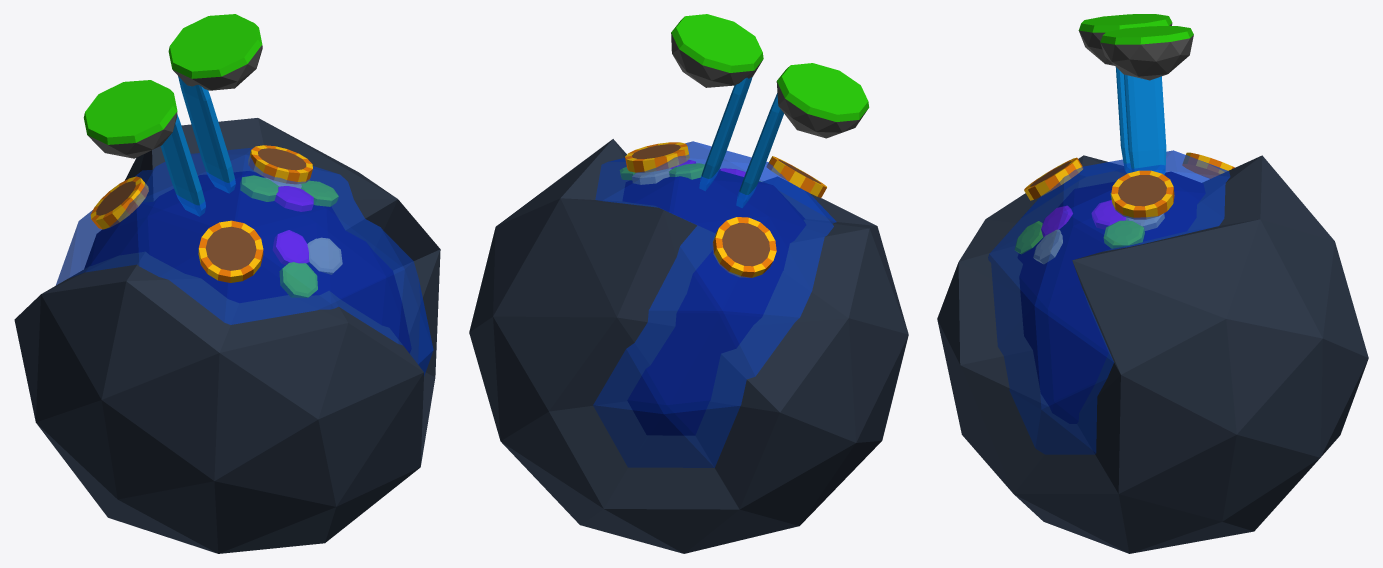
File: CosmicCove.obj
The picture shows the model from 3 angles, left to right: view 1: azimuth 30°, elevation 25°; view 2: azimuth 150°, elevation 25°; view 3: azimuth 270°, elevation 25°; orthographic projection. The views are drawn at different scales.
Visible parts, largest first — view 1: Icosphere.001, Icosphere, Icosphere.004, Icosphere.002, Icosphere.003, Cylinder.008, Cube, Cube.001, Cylinder.001, Cylinder.002, Cylinder.006, Cylinder.005 (+4 smaller); view 2: Icosphere.001, Icosphere, Icosphere.004, Icosphere.002, Icosphere.003, Cylinder.002, Cube, Cube.001, Cylinder.001, Cylinder.008; view 3: Icosphere.001, Icosphere, Icosphere.004, Icosphere.003, Cube, Cylinder.001, Icosphere.002, Cylinder.008, Cylinder.009, Cube.001, Cylinder.002, Cylinder.007 (+3 smaller).
Part boxes in pixels (x1=…): Icosphere.001: x1=14, y1=118, x2=440, y2=553; Icosphere: x1=55, y1=147, x2=433, y2=376; Icosphere.004: x1=84, y1=171, x2=411, y2=353; Icosphere.002: x1=83, y1=80, x2=177, y2=158; Icosphere.003: x1=168, y1=14, x2=262, y2=90; Cylinder.008: x1=198, y1=220, x2=263, y2=282; Cube: x1=178, y1=76, x2=235, y2=193; Cube.001: x1=160, y1=114, x2=205, y2=216; Cylinder.001: x1=248, y1=145, x2=312, y2=184; Cylinder.002: x1=90, y1=176, x2=148, y2=229; Cylinder.006: x1=279, y1=262, x2=317, y2=297; Cylinder.005: x1=272, y1=230, x2=309, y2=265; Icosphere.001: x1=469, y1=139, x2=908, y2=553; Icosphere: x1=593, y1=141, x2=836, y2=467; Icosphere.004: x1=622, y1=170, x2=805, y2=435; Icosphere.002: x1=776, y1=63, x2=869, y2=138; Icosphere.003: x1=671, y1=14, x2=763, y2=87; Cylinder.002: x1=712, y1=217, x2=776, y2=277; Cube: x1=699, y1=77, x2=752, y2=190; Cube.001: x1=736, y1=93, x2=783, y2=207; Cylinder.001: x1=625, y1=142, x2=689, y2=172; Cylinder.008: x1=766, y1=156, x2=826, y2=197; Icosphere.001: x1=937, y1=155, x2=1368, y2=553; Icosphere: x1=988, y1=150, x2=1230, y2=454; Icosphere.004: x1=1017, y1=171, x2=1205, y2=423; Icosphere.003: x1=1100, y1=26, x2=1193, y2=80; Cube: x1=1124, y1=74, x2=1166, y2=174; Cylinder.001: x1=1111, y1=170, x2=1174, y2=219; Icosphere.002: x1=1078, y1=14, x2=1172, y2=65; Cylinder.008: x1=1024, y1=157, x2=1083, y2=200; Cylinder.009: x1=1103, y1=220, x2=1144, y2=248; Cube.001: x1=1115, y1=67, x2=1131, y2=173; Cylinder.002: x1=1182, y1=152, x2=1234, y2=178; Cylinder.007: x1=1033, y1=229, x2=1062, y2=263.
Size of the model in its own units: 2.18 by 2.91 by 2.26.
Materials: 12 (12 with a texture image).
